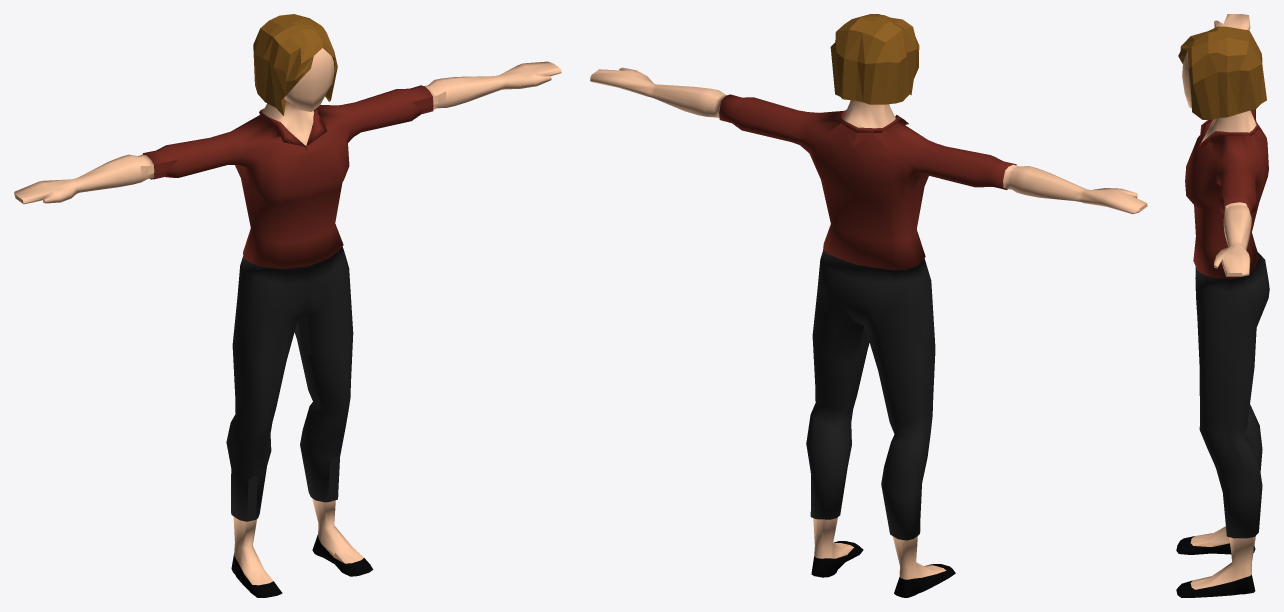
The model's file is NicoFemale2WithoutLinkBetweenBonesAndMesh.glb.
3 views of the same model, side by side, from view 1: azimuth 30°, elevation 25°; view 2: azimuth 150°, elevation 25°; view 3: azimuth 270°, elevation 25° (orthographic). The views are drawn at different scales.
Visible parts, largest first — view 1: Body, Hair; view 2: Body, Hair; view 3: Body, Hair.
Part boxes in pixels (x1=…): Body: x1=14, y1=48, x2=561, y2=597; Hair: x1=253, y1=14, x2=337, y2=115; Body: x1=590, y1=47, x2=1147, y2=597; Hair: x1=830, y1=14, x2=919, y2=104; Body: x1=1176, y1=14, x2=1269, y2=597; Hair: x1=1178, y1=26, x2=1266, y2=119.
Size of the model in its own units: 12.23 by 11.86 by 1.86.
